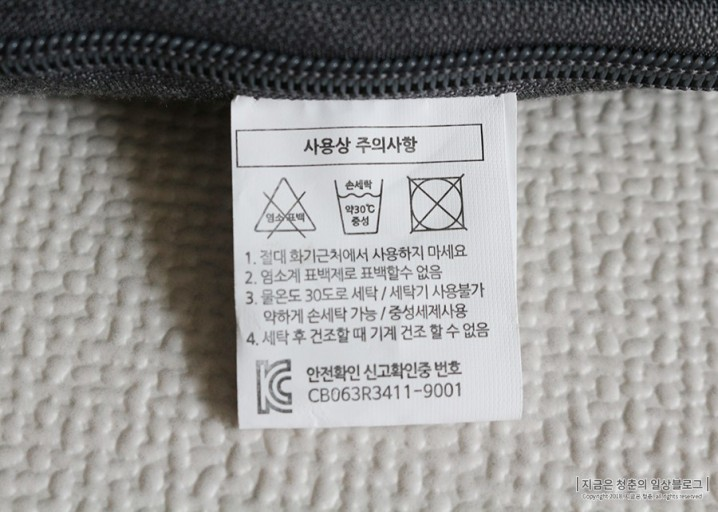KR_hand_wash_30_neutral: (328, 171, 387, 239)
KR_no_chlorine_bleach: (251, 175, 320, 238)
KR_no_tumble_dry: (402, 171, 469, 234)
